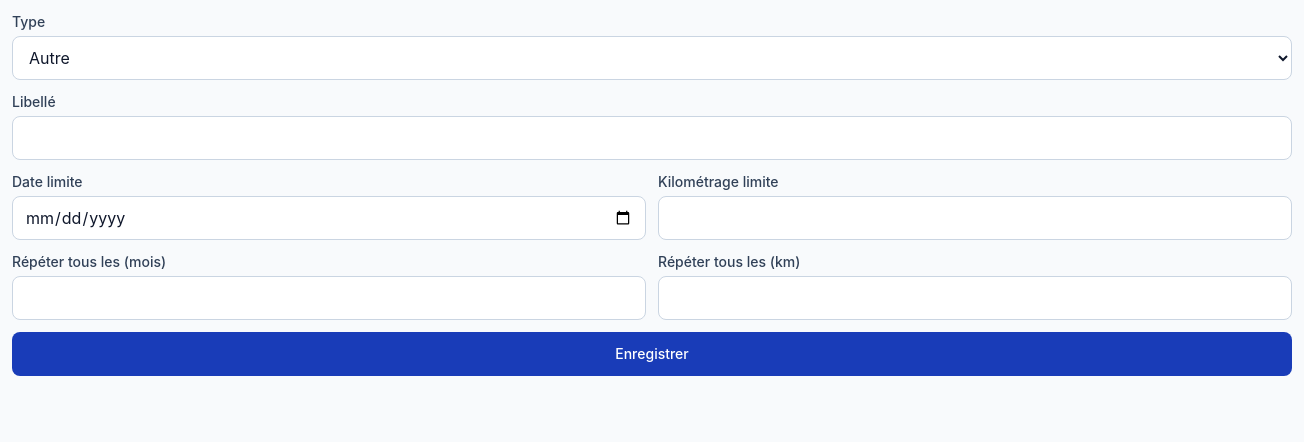
needs a date, an odometer or both
Click the button "Enregistrer": (652, 354) [12,332,1292,376]
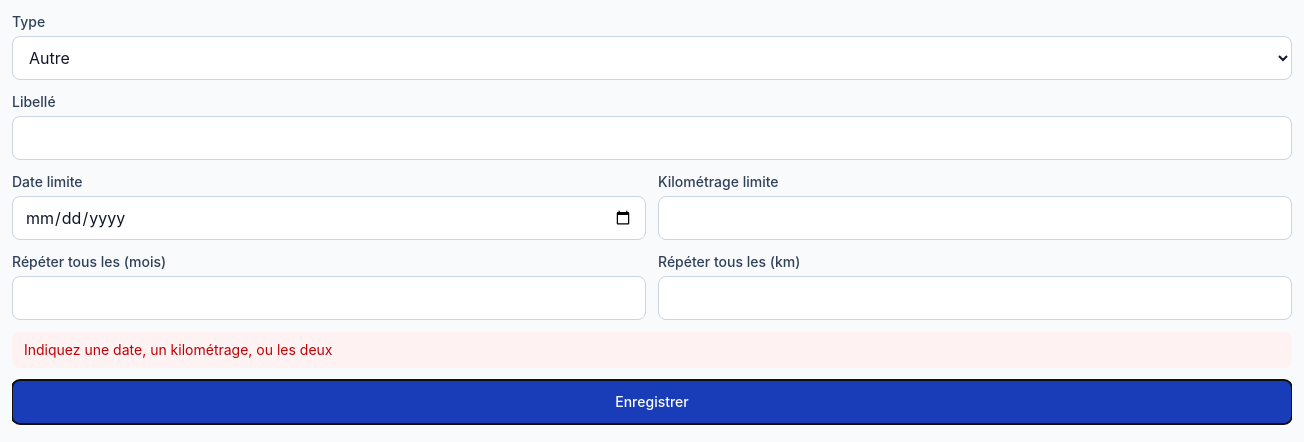
Now the text "Indiquez une date, un kilométrage, ou les deux" is shown, box [12,332,1292,368]
